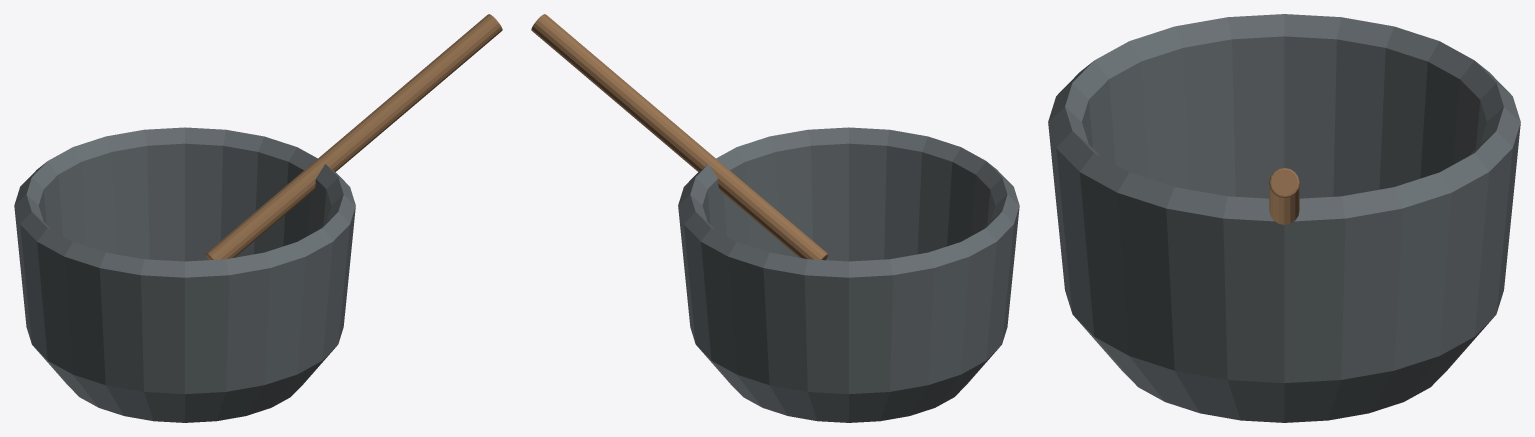
File: cooking_pot.glb
3 views of the same model, side by side, from view 1: azimuth 30°, elevation 25°; view 2: azimuth 150°, elevation 25°; view 3: azimuth 270°, elevation 25° (orthographic). The views are drawn at different scales.
Parts seen in each view (by area): view 1: Hollow cooking pot, Ladle handle; view 2: Hollow cooking pot, Ladle handle; view 3: Hollow cooking pot, Ladle handle.
Boxes of the visible parts, x1=… form: Hollow cooking pot: x1=14, y1=127, x2=355, y2=422; Ladle handle: x1=205, y1=14, x2=502, y2=260; Hollow cooking pot: x1=678, y1=127, x2=1019, y2=422; Ladle handle: x1=531, y1=14, x2=828, y2=260; Hollow cooking pot: x1=1048, y1=14, x2=1520, y2=422; Ladle handle: x1=1269, y1=168, x2=1299, y2=224.
Bounding box in the file's own units: 0.4383 × 0.2549 × 0.28.
